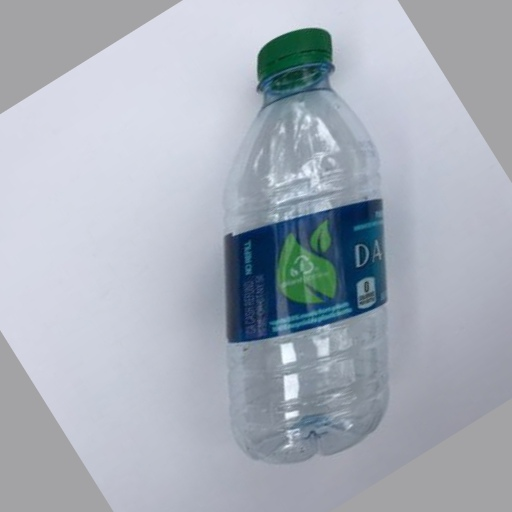Plastic_0: (225, 29, 394, 463)
